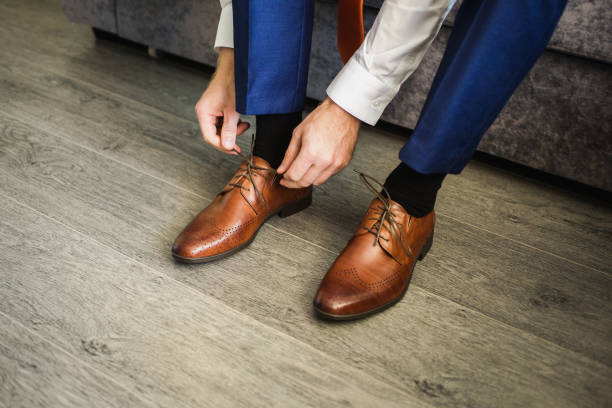Footwear: (311, 180, 438, 326)
